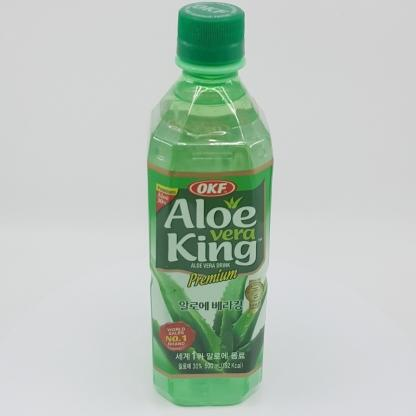------------500ml: (147, 2, 274, 405)
